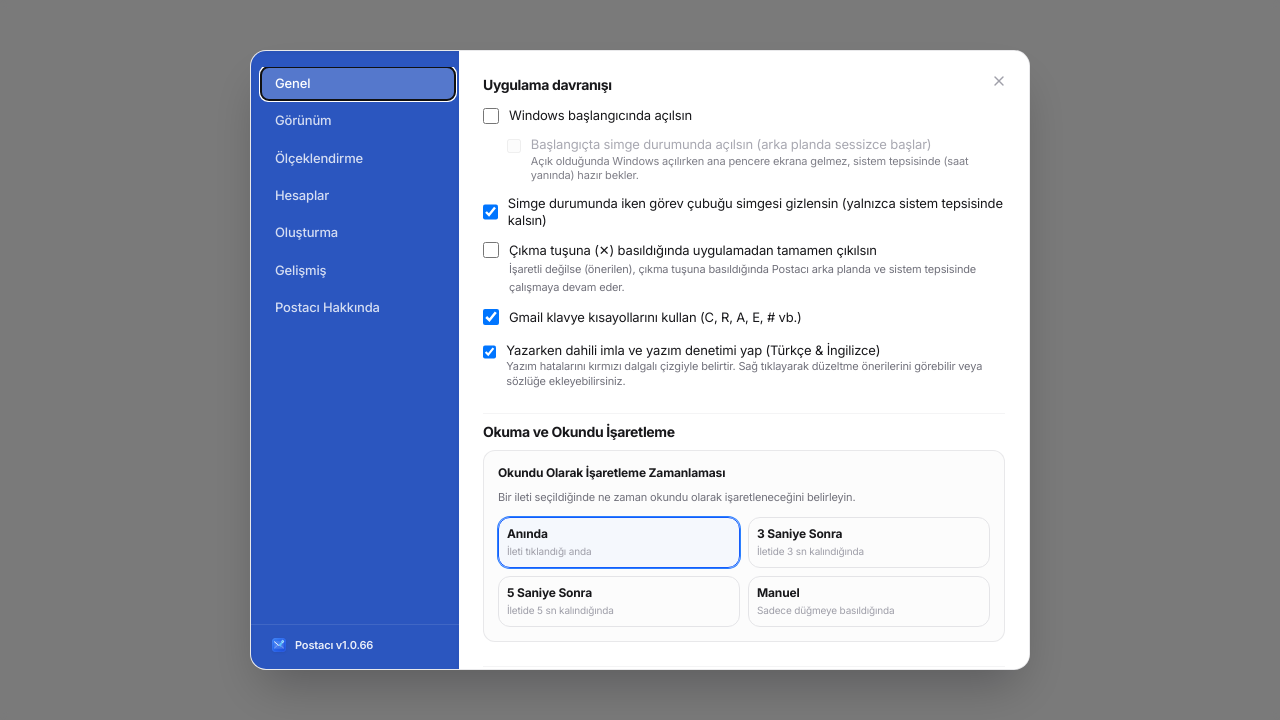
SettingsModal — sekme yüzeyi › ölçek sekmesinde hazır % değerine tıklamak değeri değiştirir
Click the button "Ölçeklendirme". click: [358, 158]
box: [261,142,455,175]
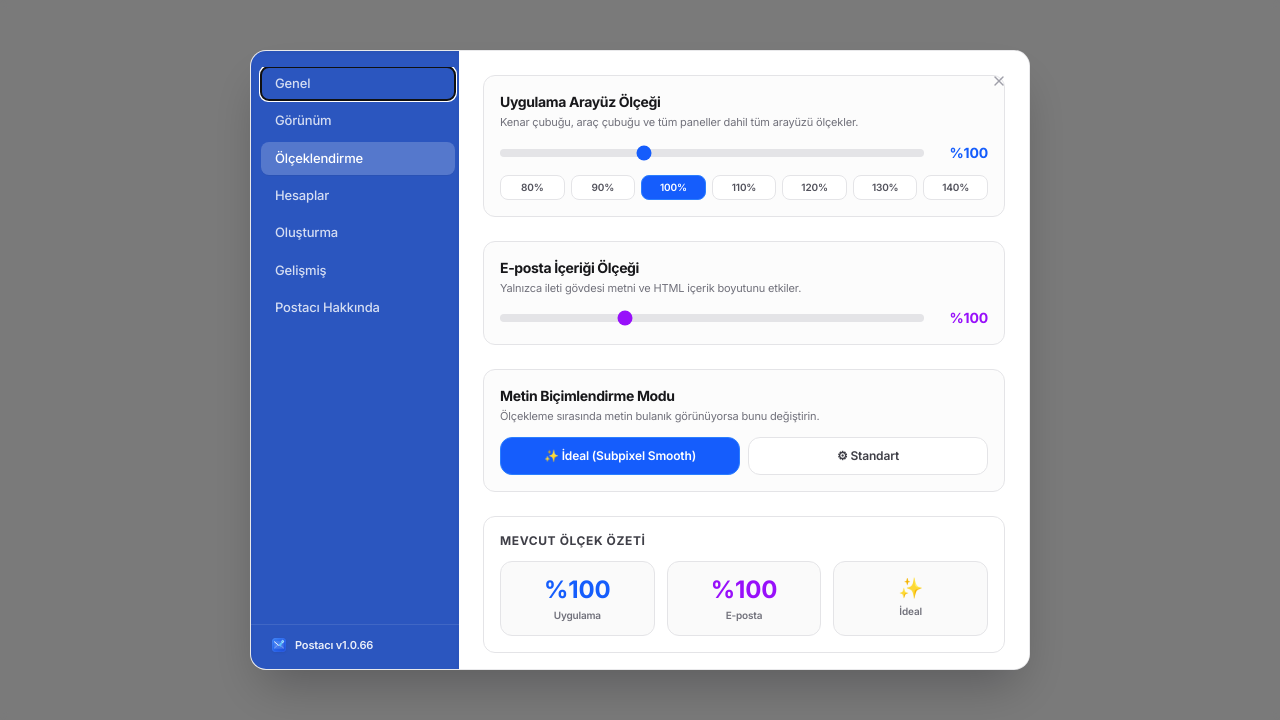
Hazır %120 düğmesi
Click the button "120%". click: [815, 187]
box: [782,174,847,200]
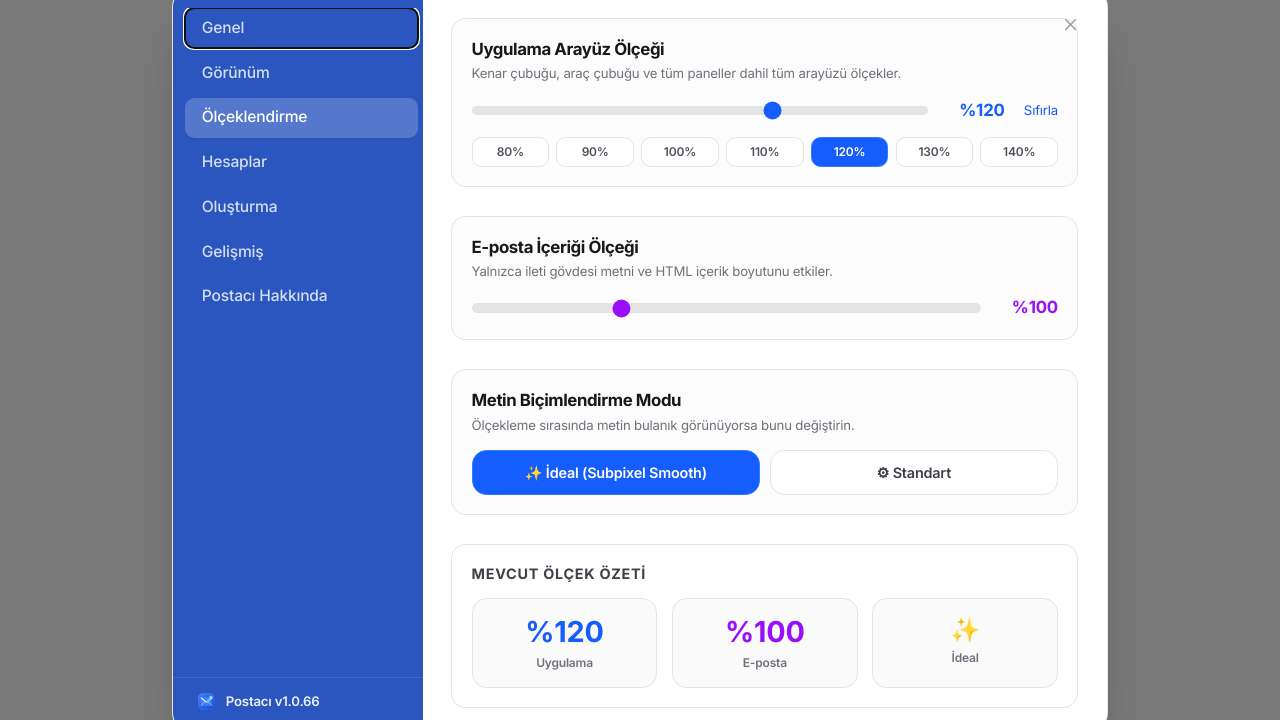
Expected: the 1st text "%120" is shown, [959,100,1005,120]
Expected: the button "Sıfırla" is shown, [1024,101,1058,120]
